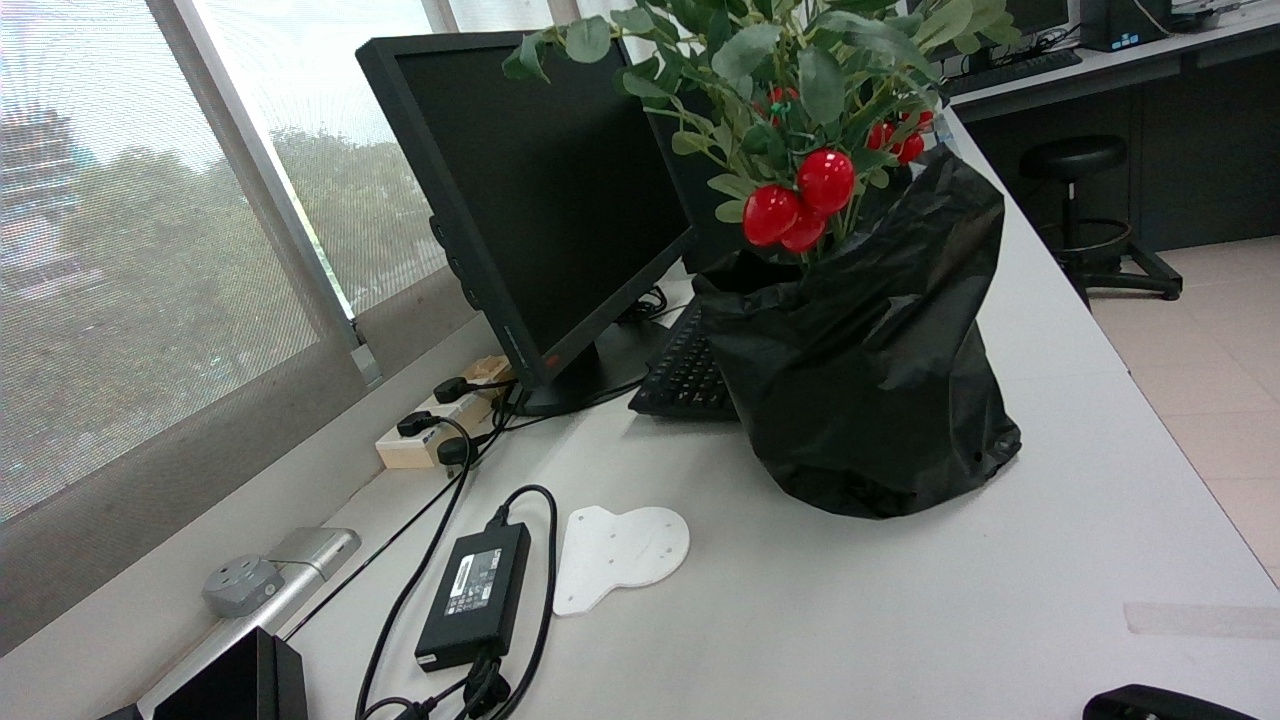peduncle: (780, 110, 787, 129)
strawberry: (798, 147, 856, 214), (744, 183, 802, 246), (780, 199, 830, 252), (868, 120, 897, 149), (899, 133, 924, 164)
